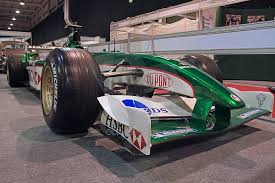FormulaOneCar: (6, 28, 275, 160)
